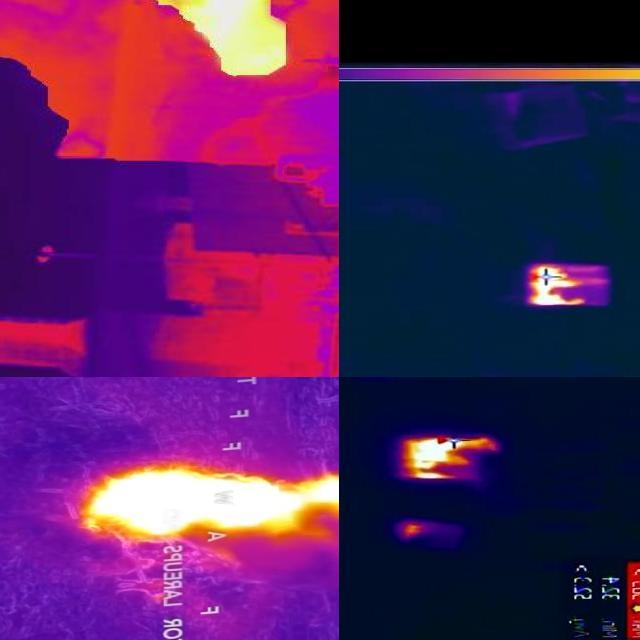fire: (81, 467, 340, 537), (158, 1, 293, 78), (404, 435, 502, 479), (525, 263, 612, 307), (399, 520, 431, 538)
